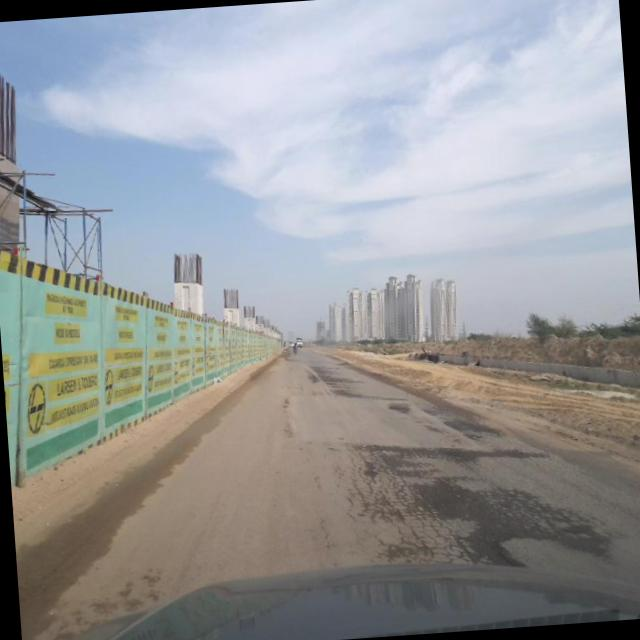crack: (328, 418, 629, 566)
